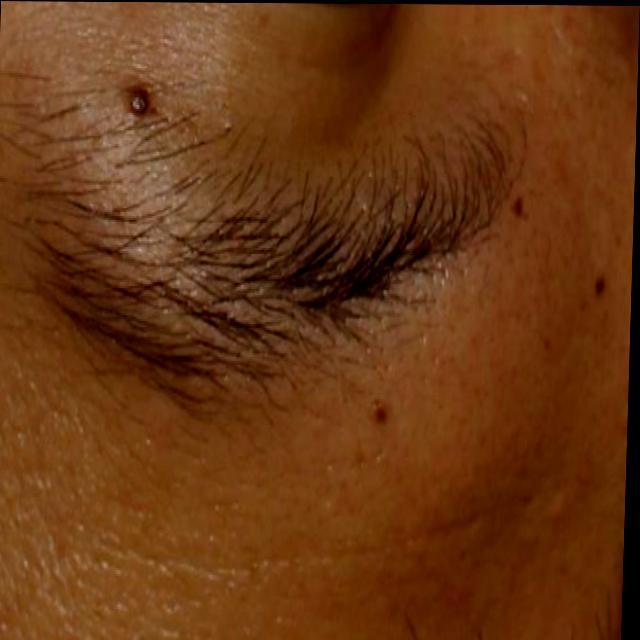dark spot: (122, 75, 159, 135), (360, 384, 396, 438), (506, 184, 535, 232), (587, 268, 616, 313)
